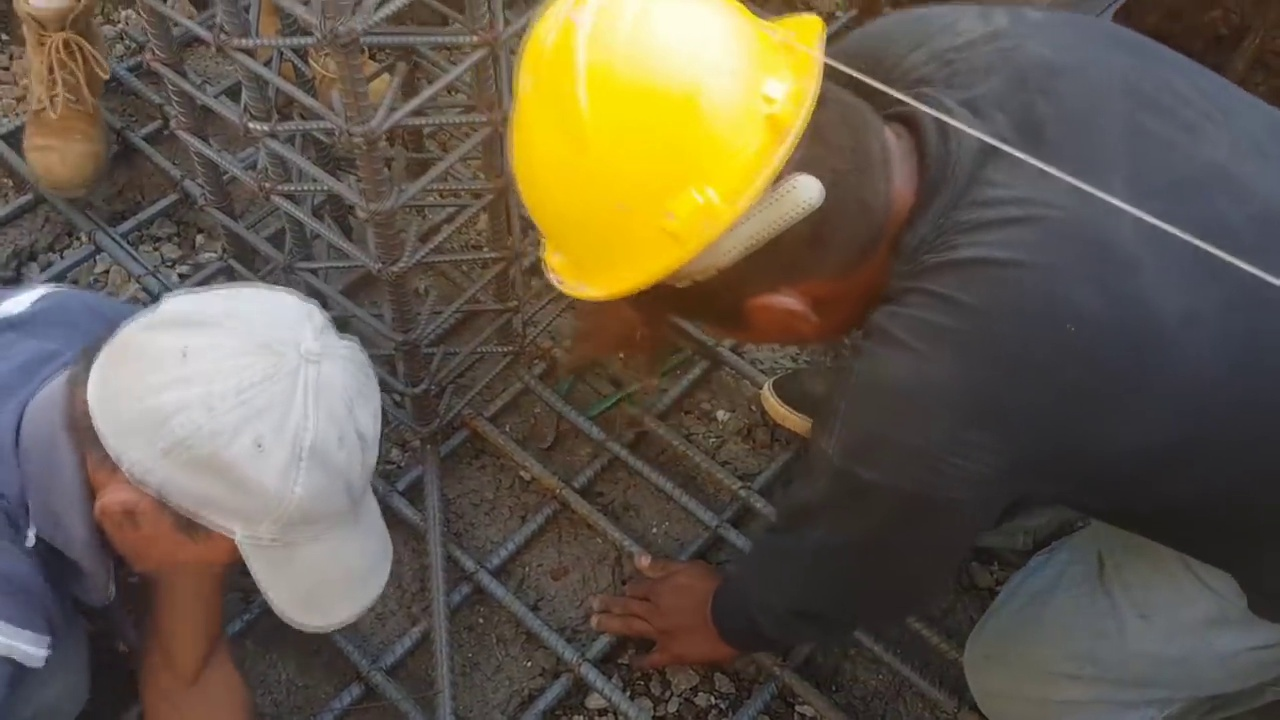helmet: (501, 0, 832, 319)
helmet-off: (68, 288, 400, 628)
helmet-on: (496, 2, 948, 362)
person: (502, 0, 1280, 720), (0, 231, 404, 719)
